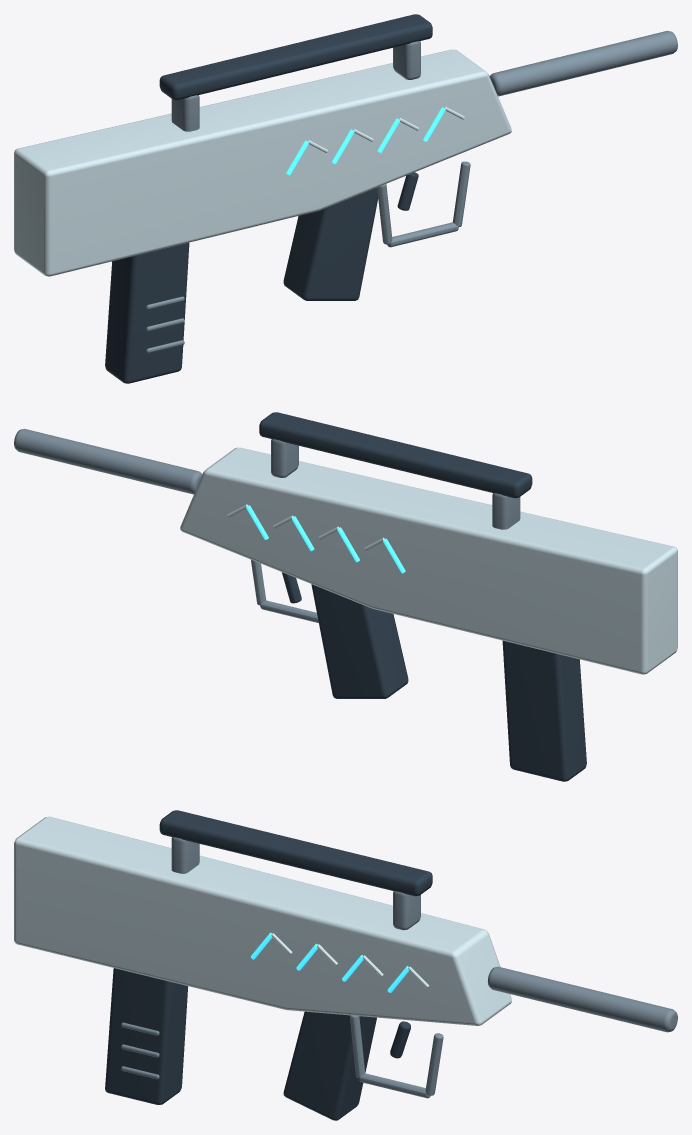
Rendered from famas.glb.
3 views of the same model, one above another, from view 1: azimuth 30°, elevation 25°; view 2: azimuth 150°, elevation 25°; view 3: azimuth 330°, elevation 25° (orthographic).
Parts seen in each view (by area): view 1: Bullpup body, Magazine.001, Carry handle, Pistol grip.001, Barrel.001, Handle support.001, Handle support, Trigger guard.004, Trigger guard.005, Trigger guard.003; view 2: Bullpup body, Magazine.001, Carry handle, Pistol grip.001, Barrel.001, Handle support.001, Handle support, Trigger guard.004; view 3: Bullpup body, Magazine.001, Carry handle, Pistol grip.001, Barrel.001, Handle support.001, Handle support, Trigger guard.004, Trigger guard.005, Trigger guard.003, Trigger.001.
Boxes of the visible parts, left/top/right/bottom form: Bullpup body: left=14, top=49, right=511, bottom=276; Magazine.001: left=105, top=242, right=189, bottom=383; Carry handle: left=159, top=14, right=432, bottom=100; Pistol grip.001: left=283, top=187, right=378, bottom=300; Barrel.001: left=489, top=30, right=677, bottom=96; Handle support.001: left=393, top=41, right=420, bottom=79; Handle support: left=171, top=95, right=199, bottom=131; Trigger guard.004: left=387, top=222, right=458, bottom=247; Trigger guard.005: left=453, top=161, right=470, bottom=227; Trigger guard.003: left=377, top=184, right=392, bottom=244; Bullpup body: left=180, top=447, right=677, bottom=674; Magazine.001: left=502, top=640, right=586, bottom=781; Carry handle: left=259, top=412, right=532, bottom=498; Pistol grip.001: left=311, top=584, right=408, bottom=698; Barrel.001: left=14, top=428, right=202, bottom=494; Handle support.001: left=271, top=439, right=298, bottom=477; Handle support: left=492, top=493, right=520, bottom=529; Trigger guard.004: left=260, top=600, right=318, bottom=622; Bullpup body: left=14, top=816, right=511, bottom=1025; Magazine.001: left=105, top=968, right=188, bottom=1104; Carry handle: left=159, top=810, right=432, bottom=896; Pistol grip.001: left=283, top=1011, right=376, bottom=1120; Barrel.001: left=487, top=966, right=677, bottom=1032; Handle support.001: left=393, top=891, right=420, bottom=930; Handle support: left=171, top=837, right=199, bottom=873; Trigger guard.004: left=359, top=1073, right=430, bottom=1098; Trigger guard.005: left=425, top=1033, right=443, bottom=1095; Trigger guard.003: left=350, top=1015, right=365, bottom=1078; Trigger.001: left=390, top=1021, right=410, bottom=1058.
Size of the model in its own units: 4.95 by 2.09 by 0.5038.
